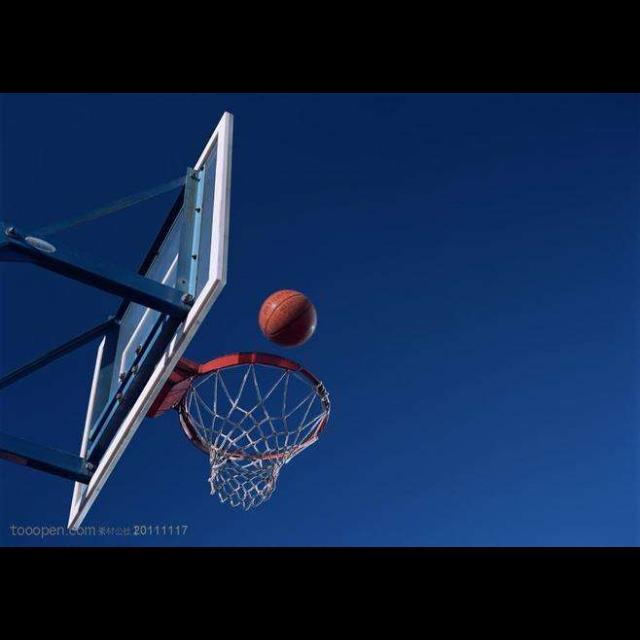basketball: (260, 291, 316, 347)
rim: (180, 352, 330, 510)
